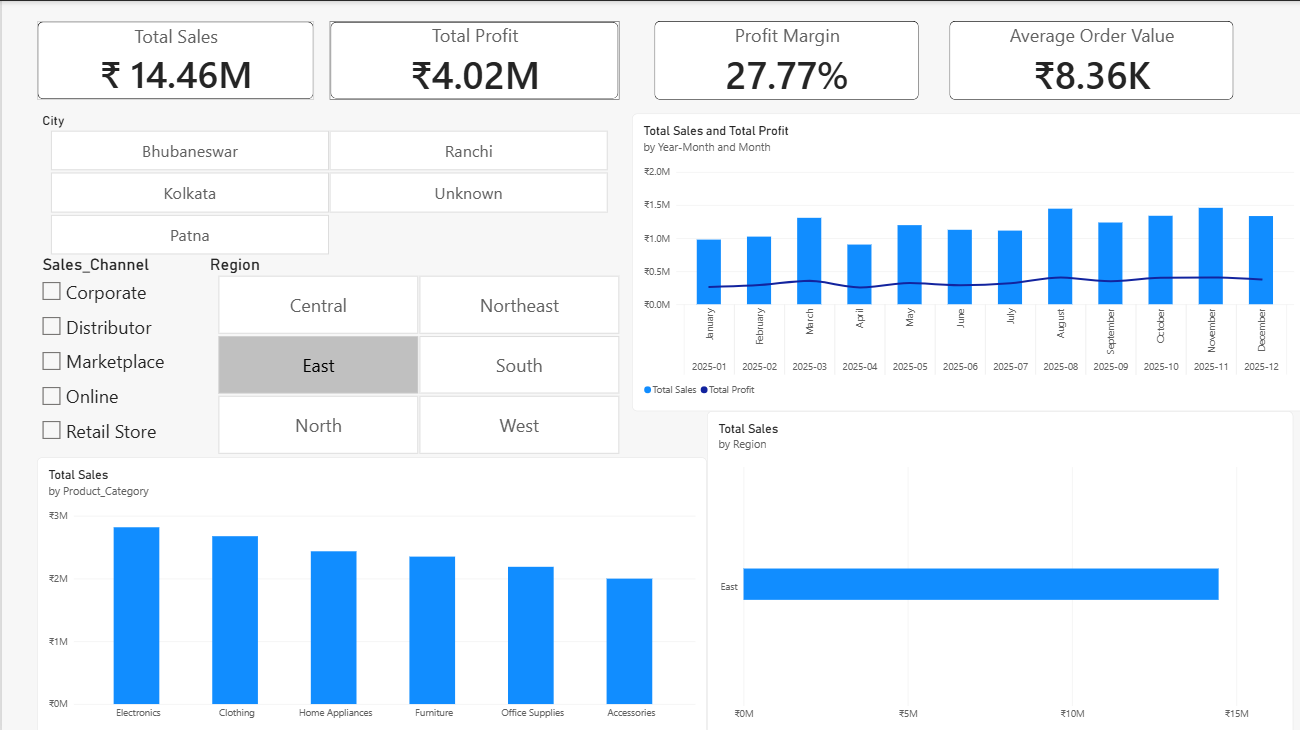

The dashboard page shown, as its layout file describes it:
{"tool":"powerbi","page":{"name":"Page 1","canvas":[1920,1080],"ordinal":0},"visuals":[{"type":"cardVisual","fields":{"Data":["financial_sales_features.Total Sales"]},"box":[50.8,29.6,408.2,116.3],"z":0},{"type":"cardVisual","fields":{"Data":["financial_sales_features.Total Profit"]},"box":[482.2,29.6,427.2,116.3],"z":1},{"type":"cardVisual","fields":{"Data":["financial_sales_features.Profit Margin"]},"box":[960.2,29.6,389.2,116.3],"z":2},{"type":"cardVisual","fields":{"Data":["financial_sales_features.Average Order Value"]},"box":[1395.9,29.6,418.8,116.3],"z":3},{"type":"lineClusteredColumnComboChart","fields":{"Category":["DateTable.Year-Month","financial_sales_features.Month"],"Y":["financial_sales_features.Total Sales"],"Y2":["financial_sales_features.Total Profit"]},"box":[927.6,165.6,992,438],"z":4},{"type":"clusteredBarChart","fields":{"Category":["financial_sales_features.Region"],"Y":["financial_sales_features.Total Sales"]},"box":[1038.5,602.8,862.9,478],"z":5},{"type":"clusteredColumnChart","fields":{"Category":["financial_sales_features.Product_Category"],"Y":["financial_sales_features.Total Sales"]},"box":[51.5,671.8,986.5,408.6],"z":6},{"type":"slicer","fields":{"Values":["financial_sales_features.Region"]},"box":[298.2,373.6,629.5,294.5],"z":7},{"type":"slicer","fields":{"Values":["financial_sales_features.Sales_Channel"]},"box":[51.5,373.6,279.8,298.2],"z":8},{"type":"slicer","fields":{"Values":["financial_sales_features.City"]},"box":[50.8,165,858.7,209.4],"z":9}]}

Visuals, with their boxes in screenshot pixels (x1, y1, x2, y2), scaled from the page's 1920x1080 canvas onto the 1300x730 screenshot:
cardVisual - financial_sales_features.Total Sales: left=34, top=20, right=311, bottom=99
cardVisual - financial_sales_features.Total Profit: left=326, top=20, right=616, bottom=99
cardVisual - financial_sales_features.Profit Margin: left=650, top=20, right=914, bottom=99
cardVisual - financial_sales_features.Average Order Value: left=945, top=20, right=1229, bottom=99
lineClusteredColumnComboChart - DateTable.Year-Month x financial_sales_features.Month: left=628, top=112, right=1299, bottom=408
clusteredBarChart - financial_sales_features.Region x financial_sales_features.Total Sales: left=703, top=407, right=1287, bottom=729
clusteredColumnChart - financial_sales_features.Product_Category x financial_sales_features.Total Sales: left=35, top=454, right=703, bottom=729
slicer - financial_sales_features.Region: left=202, top=253, right=628, bottom=452
slicer - financial_sales_features.Sales_Channel: left=35, top=253, right=224, bottom=454
slicer - financial_sales_features.City: left=34, top=112, right=616, bottom=253
